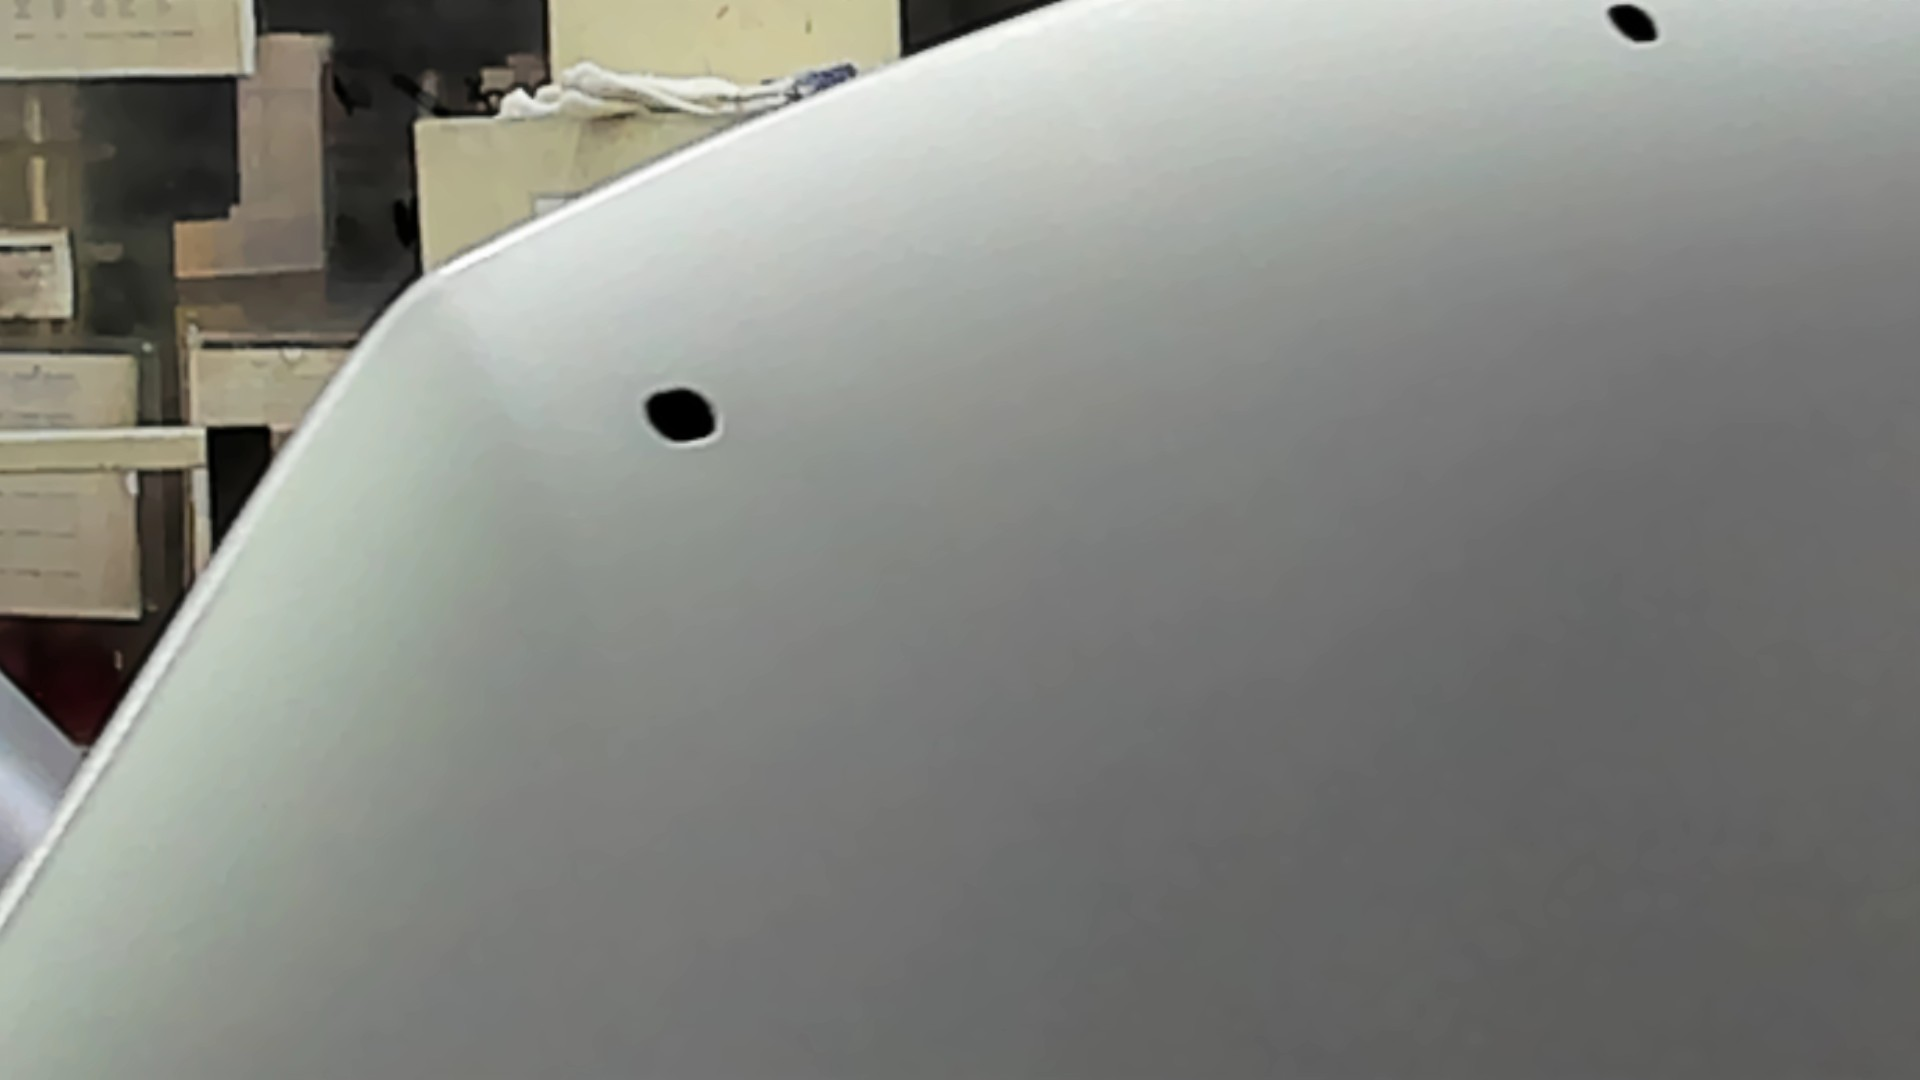amorfo: (636, 385, 724, 448), (1602, 1, 1665, 51)
